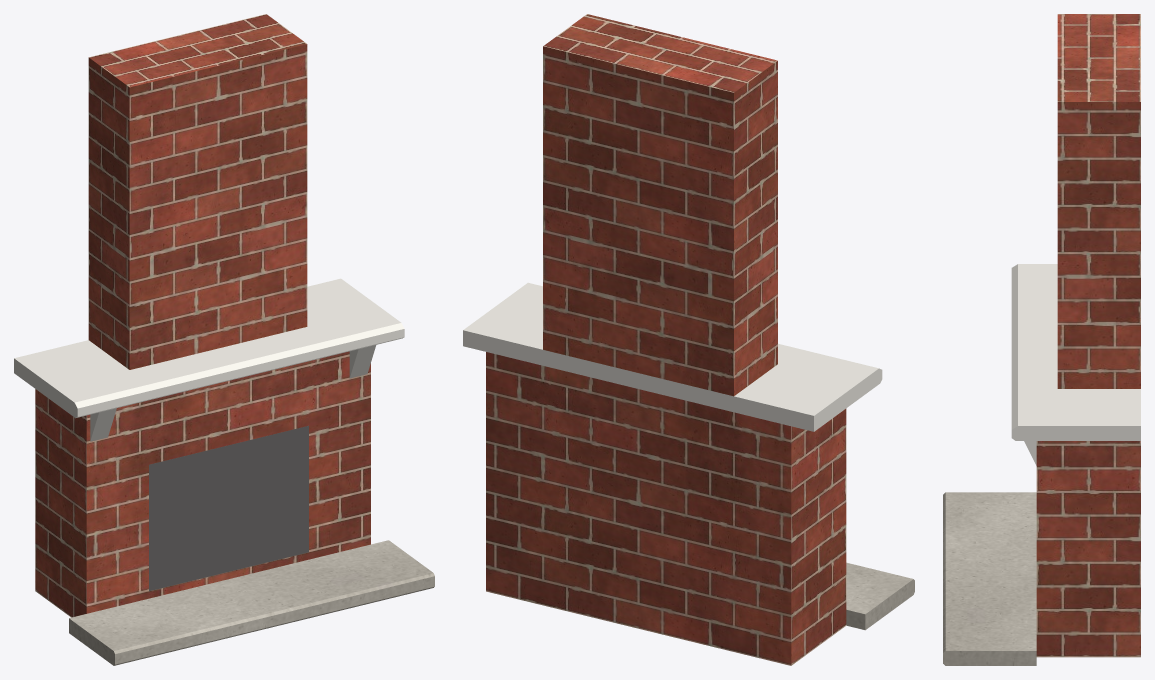
The model's file is fireplace.glb.
3 views of the same model, side by side, from view 1: azimuth 30°, elevation 25°; view 2: azimuth 150°, elevation 25°; view 3: azimuth 270°, elevation 25° (orthographic). The views are drawn at different scales.
Visible parts, largest first — view 1: fireplace_brick, fireplace_dark, fireplace_cap, fireplace_trim; view 2: fireplace_brick, fireplace_trim, fireplace_cap; view 3: fireplace_brick, fireplace_cap, fireplace_trim.
Boxes of the visible parts, bbox=[...] form: fireplace_brick: bbox=[35, 14, 370, 617]; fireplace_dark: bbox=[149, 425, 308, 591]; fireplace_cap: bbox=[69, 540, 434, 665]; fireplace_trim: bbox=[14, 278, 404, 441]; fireplace_brick: bbox=[486, 14, 846, 665]; fireplace_trim: bbox=[463, 282, 882, 431]; fireplace_cap: bbox=[846, 562, 914, 630]; fireplace_brick: bbox=[1036, 14, 1140, 657]; fireplace_cap: bbox=[943, 492, 1036, 665]; fireplace_trim: bbox=[1011, 264, 1140, 465].
Bounding box in the file's own units: 1.84 × 2.8 × 0.95.
Materials: 4 (2 with a texture image).
